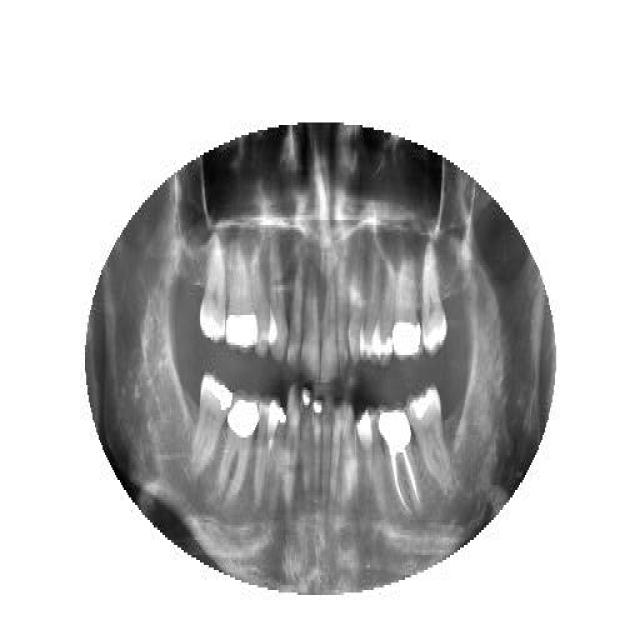Fillings: (405, 385, 449, 487), (219, 392, 259, 500), (192, 373, 232, 475), (226, 240, 258, 350), (392, 250, 420, 360)
Implant: (378, 405, 422, 515)
